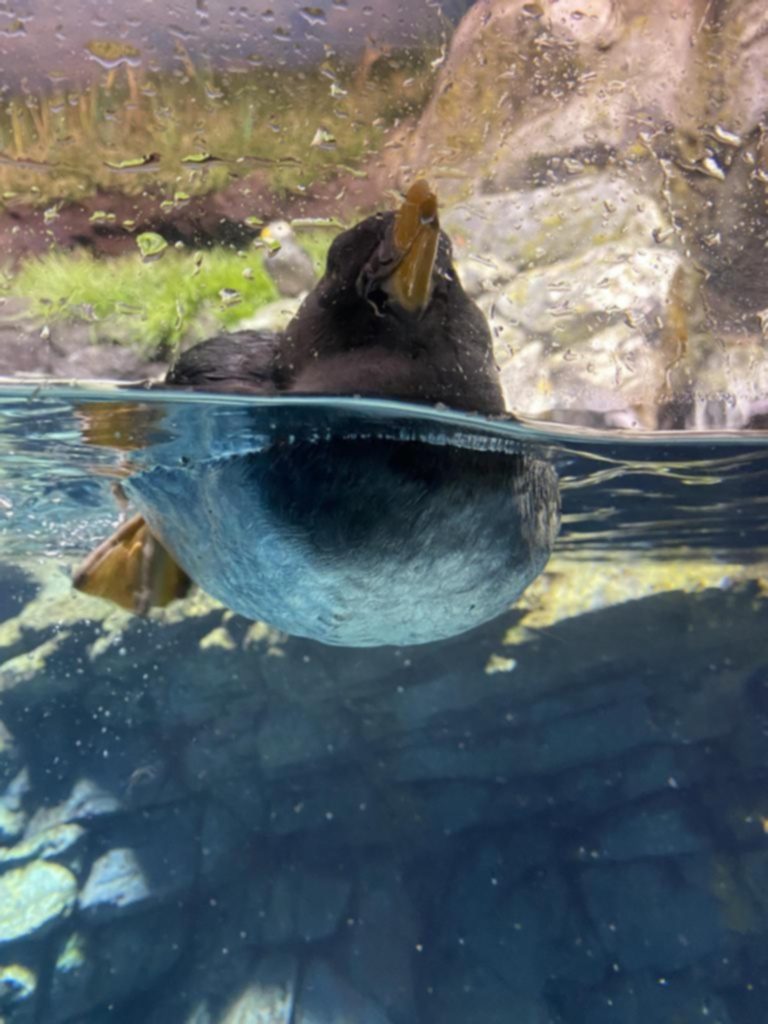puffin: (64, 172, 562, 678)
